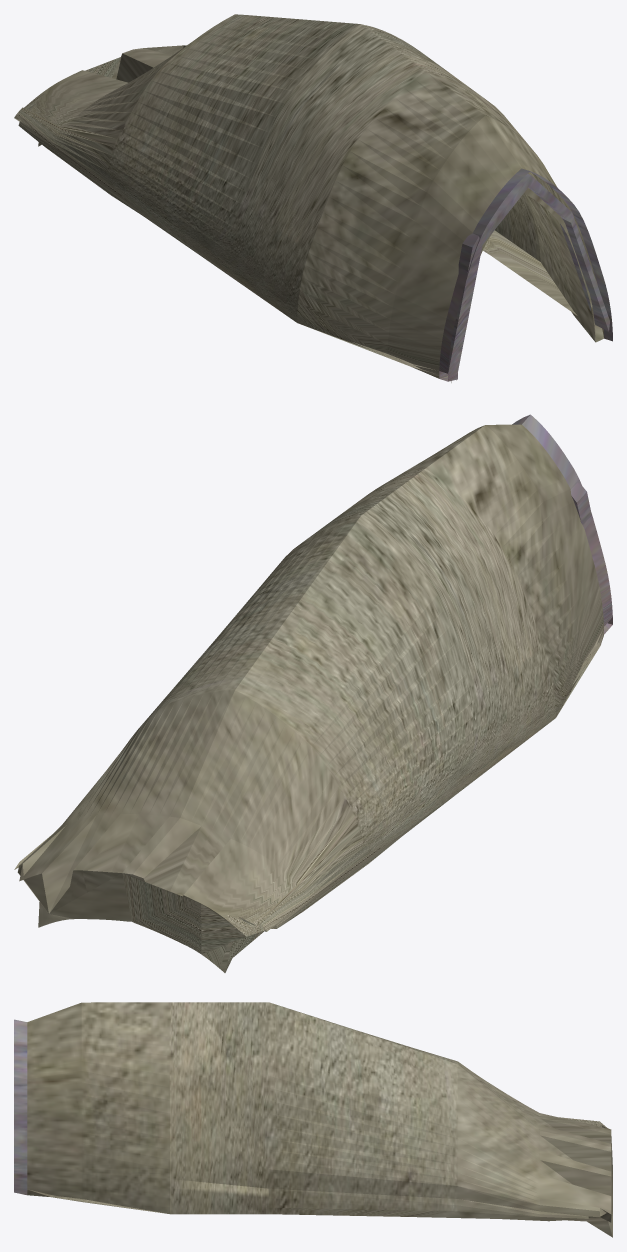
File: doukutsu.FBX
3 views of the same model, one above another, from view 1: azimuth 30°, elevation 25°; view 2: azimuth 150°, elevation 25°; view 3: azimuth 270°, elevation 25° (orthographic). The views are drawn at different scales.
Visible parts, largest first — view 1: tonneru; view 2: tonneru; view 3: tonneru.
Part boxes in pixels (x1=…): tonneru: x1=14, y1=14, x2=612, y2=382; tonneru: x1=14, y1=414, x2=612, y2=972; tonneru: x1=14, y1=1002, x2=612, y2=1237.
Size of the model in its own units: 58.18 by 155 by 57.43.
